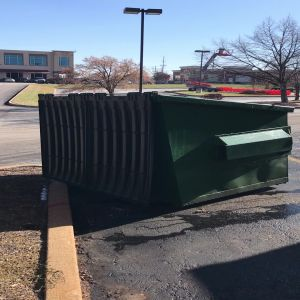Dumpster: (34, 90, 295, 209)
